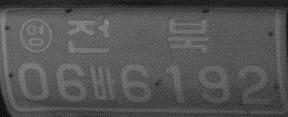0: (17, 60, 50, 101)
1: (160, 63, 191, 104)
2: (237, 64, 270, 105)
6: (119, 62, 152, 102), (55, 62, 87, 102)
9: (197, 65, 230, 104)
바: (89, 63, 115, 101)
영: (18, 17, 53, 54)
전북_D: (66, 18, 209, 55)
